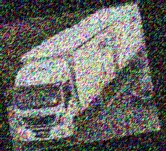truck: (0, 4, 156, 148)
